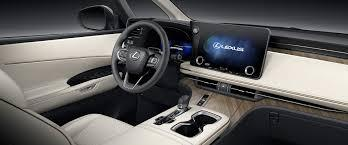lexus: (126, 50, 142, 61)
